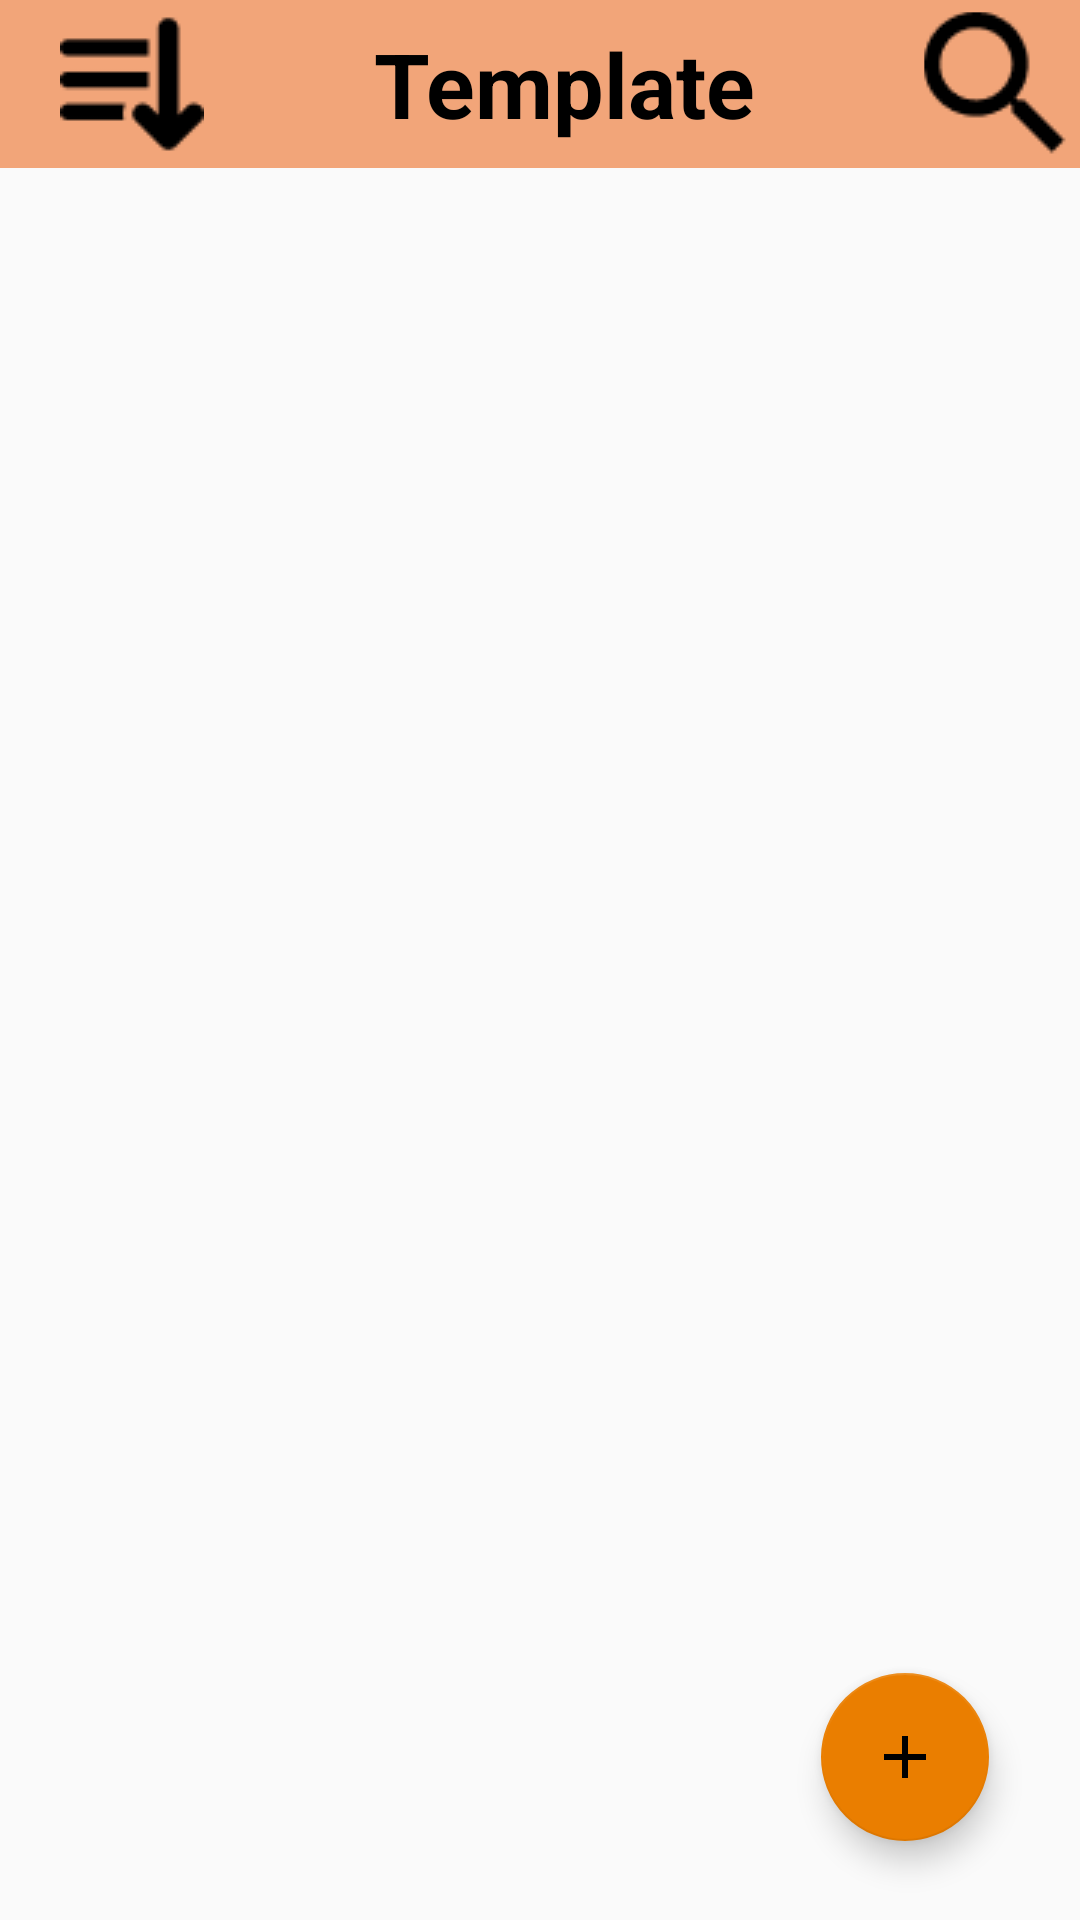

Point at icon controls on the screen. Image size 1080*1920, points as (x,y).
add: (905,1757)
search: (995,83)
sortdown: (132,84)
